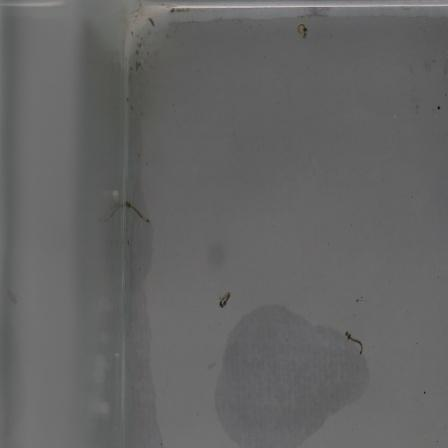Jentik-Nyamuk: (121, 196, 153, 228), (340, 326, 369, 358), (212, 289, 232, 312), (293, 19, 311, 42)
